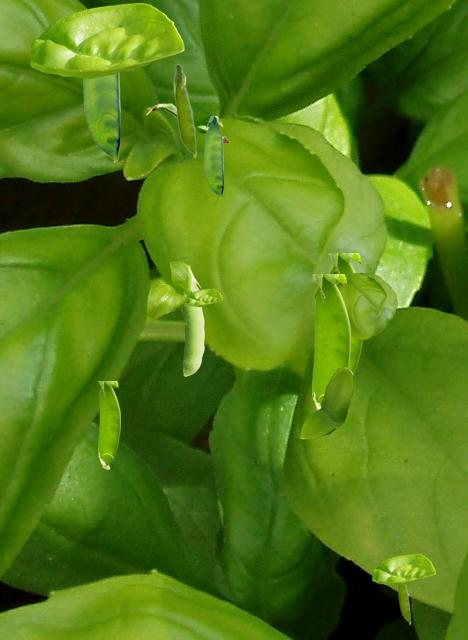pea: (312, 274, 349, 409), (328, 253, 363, 376), (83, 73, 119, 161), (146, 103, 228, 141), (181, 262, 203, 375), (173, 63, 196, 157), (98, 381, 119, 468), (204, 116, 222, 197), (396, 585, 410, 624)
